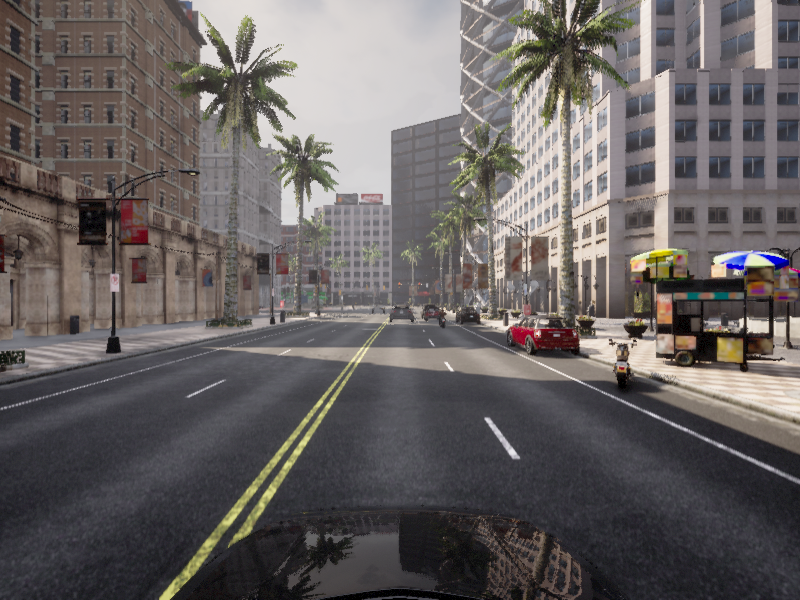vehicle: (388, 302, 415, 322), (422, 306, 443, 321), (436, 308, 448, 329)
